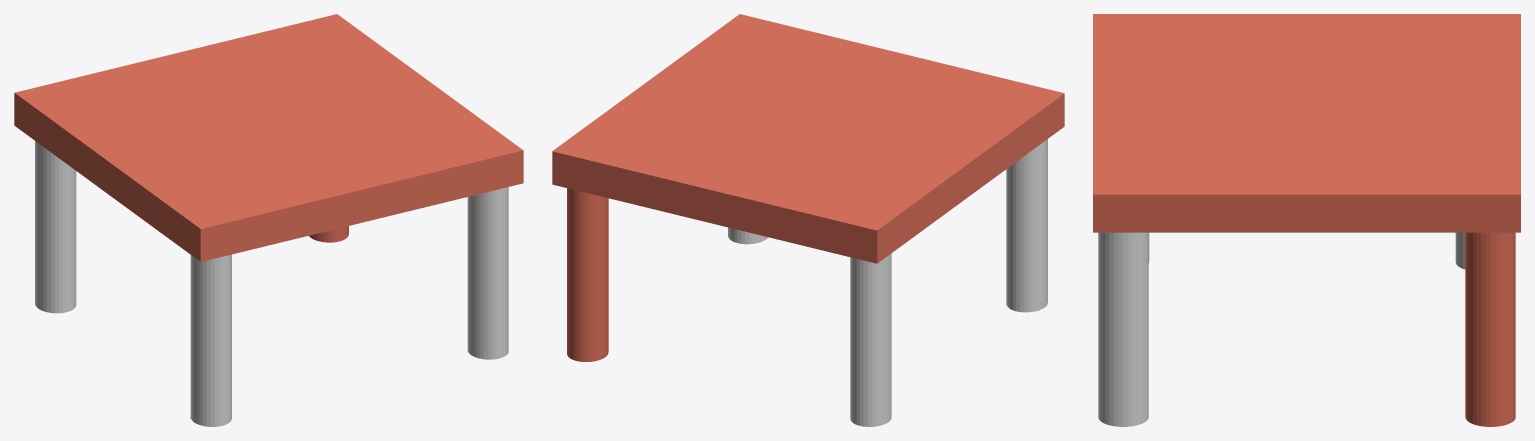
Rendered from Table.glb.
3 views of the same model, side by side, from view 1: azimuth 30°, elevation 25°; view 2: azimuth 150°, elevation 25°; view 3: azimuth 270°, elevation 25° (orthographic). The views are drawn at different scales.
Visible parts, largest first — view 1: Cube, Cube.004, Cube.002, Cube.003; view 2: Cube, Cube.001, Cube.003, Cube.004; view 3: Cube, Cube.001, Cube.002.
Part boxes in pixels (x1,y1,x2,y2): Cube: [14, 14, 523, 261]; Cube.004: [190, 254, 231, 426]; Cube.002: [467, 187, 508, 359]; Cube.003: [35, 141, 76, 313]; Cube: [552, 14, 1064, 263]; Cube.001: [567, 188, 608, 361]; Cube.003: [850, 253, 891, 426]; Cube.004: [1006, 139, 1047, 312]; Cube: [1093, 14, 1520, 232]; Cube.001: [1465, 232, 1515, 426]; Cube.002: [1098, 232, 1148, 426].
Size of the model in its own units: 2.16 by 1.31 by 2.16.
